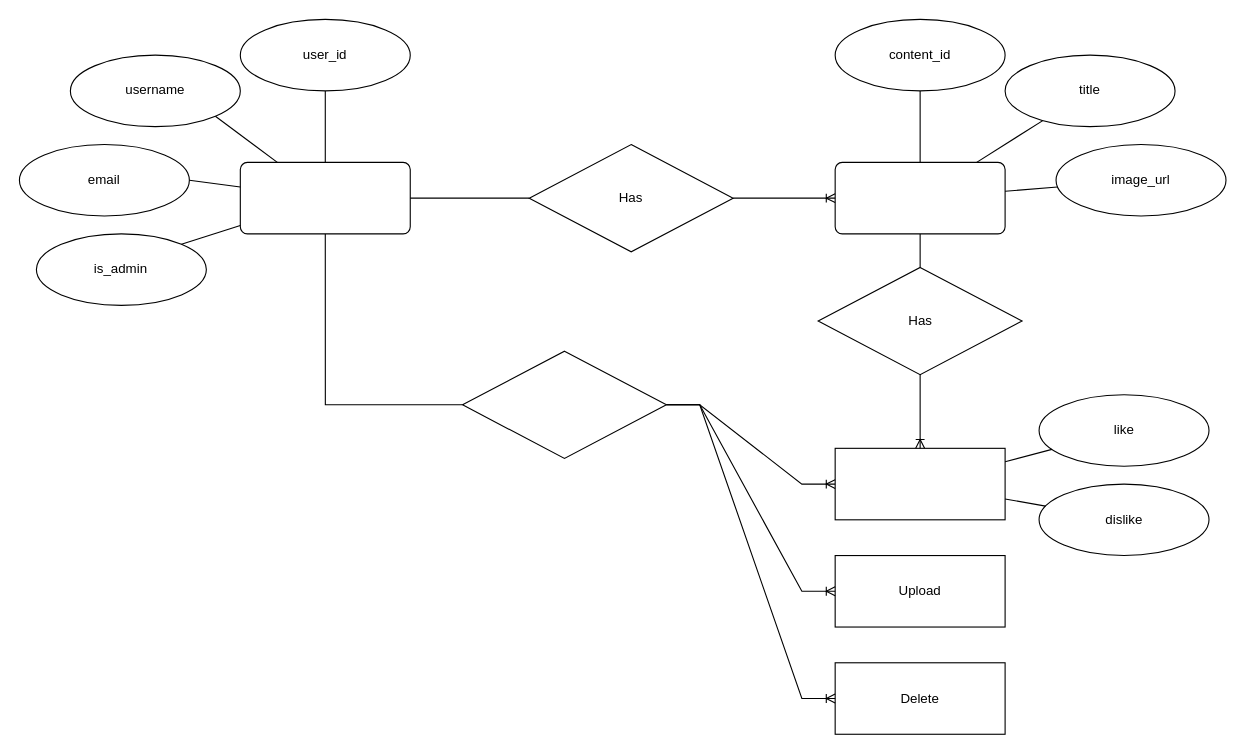
Some shapes in this 1245 by 754 pixel diagram are drawn without their labels. Each missing label, with the box of its shape:
Content: (834, 161, 1005, 234)
Does: (461, 350, 666, 458)
Like / Dislike: (834, 447, 1005, 520)
User: (239, 161, 410, 234)
